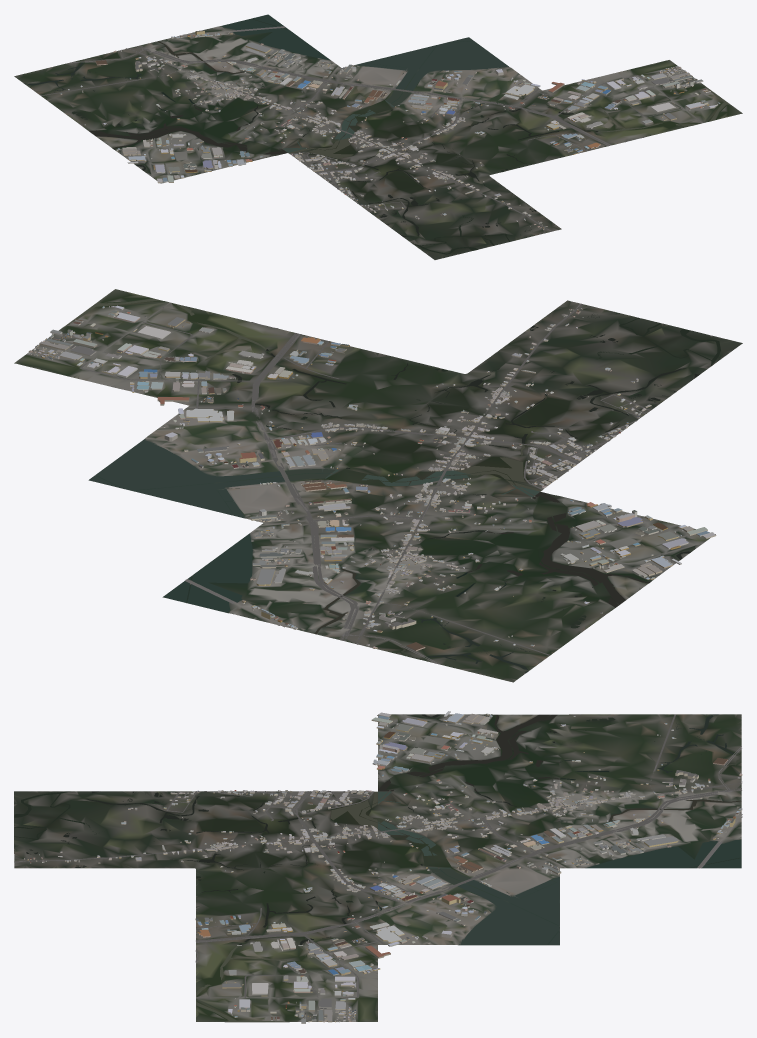
The picture shows the model from 3 angles, top to bottom: view 1: azimuth 30°, elevation 25°; view 2: azimuth 150°, elevation 25°; view 3: azimuth 270°, elevation 25°; orthographic projection. The views are drawn at different scales.
Visible parts, largest first — view 1: ground, buildings, water, roads; view 2: ground, buildings, water, roads; view 3: ground, buildings, water, roads.
Part boxes in pixels (<box>): ground: <box>14,18,742,259</box>; buildings: <box>59,30,720,229</box>; water: <box>23,14,730,254</box>; roads: <box>41,26,698,231</box>; ground: <box>14,289,742,682</box>; buildings: <box>27,305,716,651</box>; water: <box>67,298,720,672</box>; roads: <box>81,303,650,664</box>; ground: <box>14,714,741,1022</box>; buildings: <box>24,711,742,1023</box>; water: <box>14,714,741,1021</box>; roads: <box>14,714,742,998</box>.
Bounding box in the file's own units: 5675 × 52.3 × 5613.
